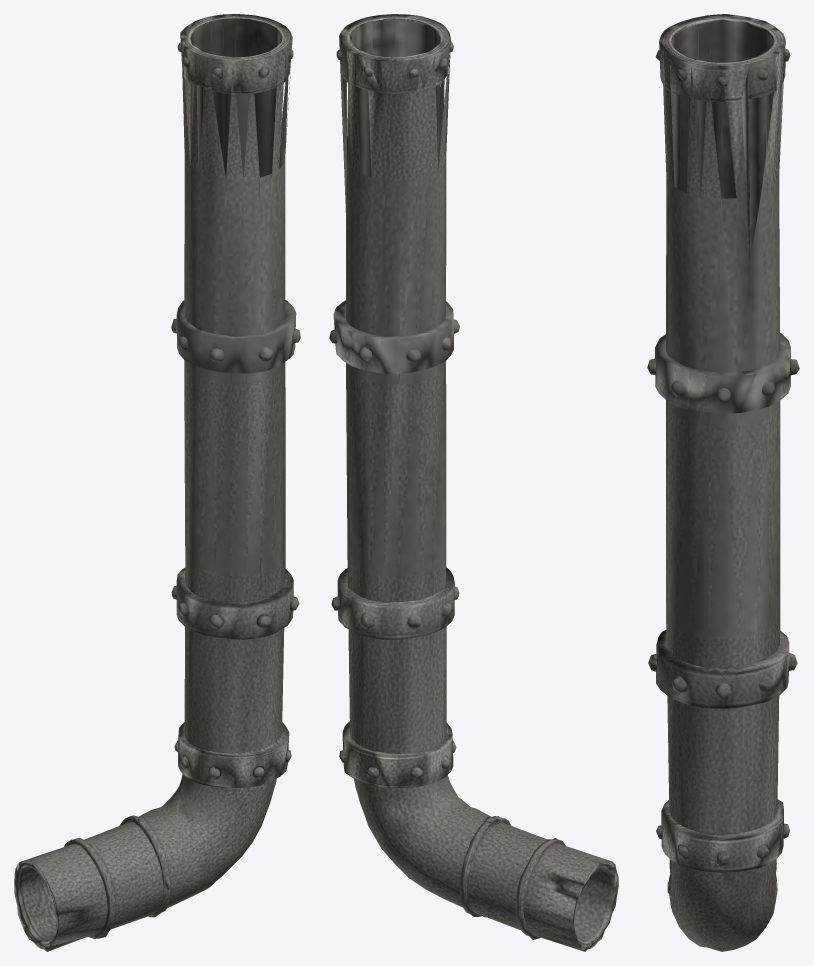
File: Tuberia.fbx
3 renders of one model, left to right at view 1: azimuth 30°, elevation 25°; view 2: azimuth 150°, elevation 25°; view 3: azimuth 270°, elevation 25°, orthographic. The views are drawn at different scales.
Parts seen in each view (by area): view 1: mesh_node; view 2: mesh_node; view 3: mesh_node.
Boxes of the visible parts, bbox=[...] form: mesh_node: bbox=[14, 14, 300, 951]; mesh_node: bbox=[329, 14, 618, 951]; mesh_node: bbox=[647, 14, 799, 951].
Size of the model in its own units: 31.84 by 100 by 14.45.
1 material, 1 textured.
